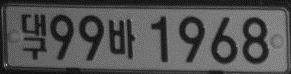1: (149, 16, 176, 62)
6: (210, 16, 238, 64)
8: (241, 15, 269, 64)
9: (78, 14, 105, 62), (178, 15, 205, 63), (49, 13, 74, 61)
대구_V: (21, 14, 46, 60)
바: (109, 19, 135, 59)
